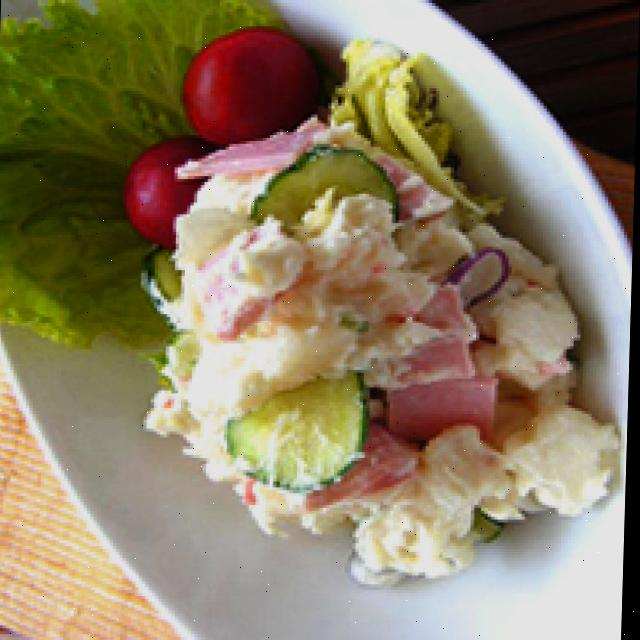蔬菜料理: (111, 29, 636, 584)
